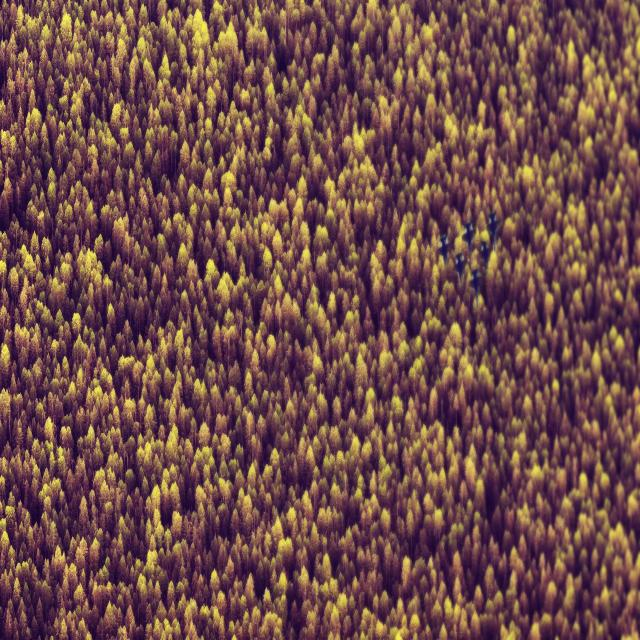airplane: (487, 212, 502, 252), (459, 220, 476, 253), (468, 265, 482, 303), (453, 252, 466, 285), (436, 236, 450, 266), (478, 241, 490, 267)
